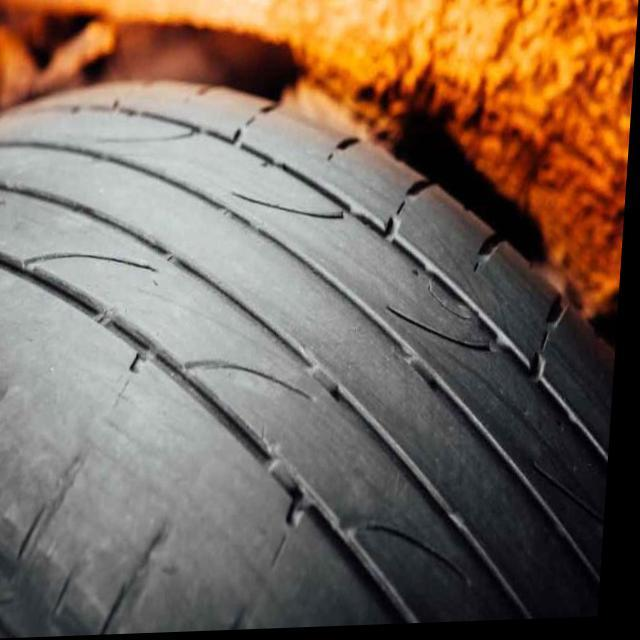Flat spots: (0, 167, 388, 638)
